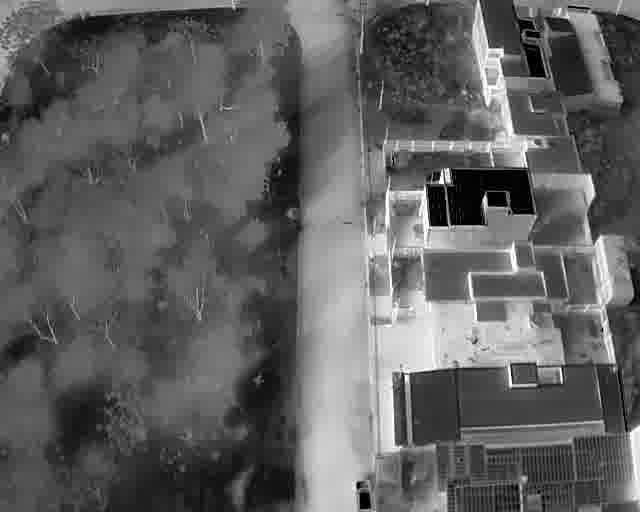car: (354, 478, 376, 512), (426, 169, 441, 183)
